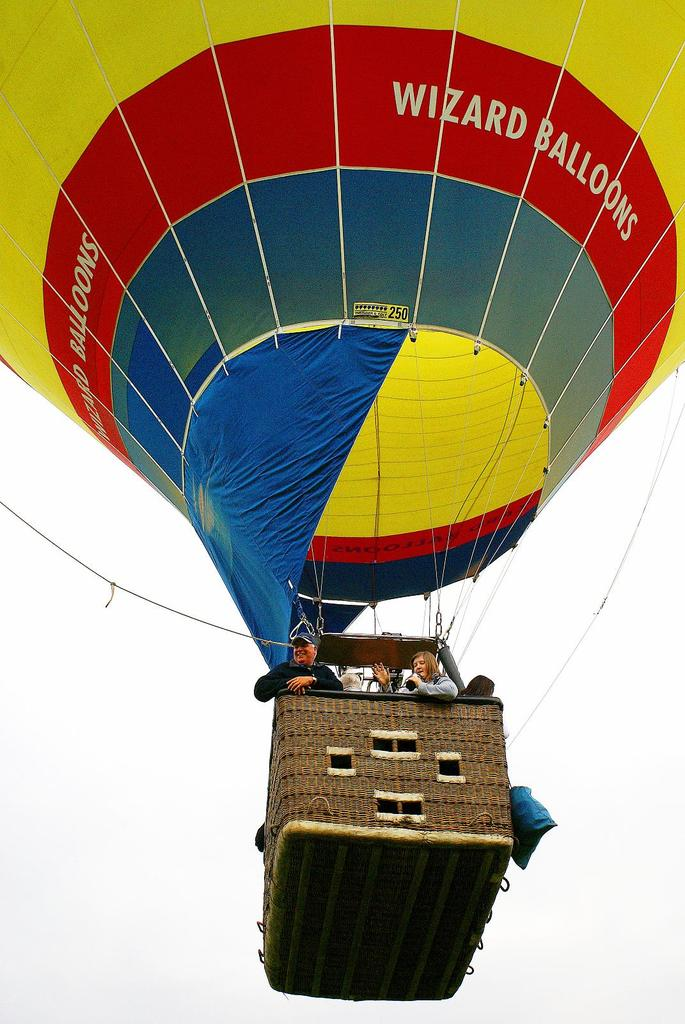person: (400, 647, 458, 696)
